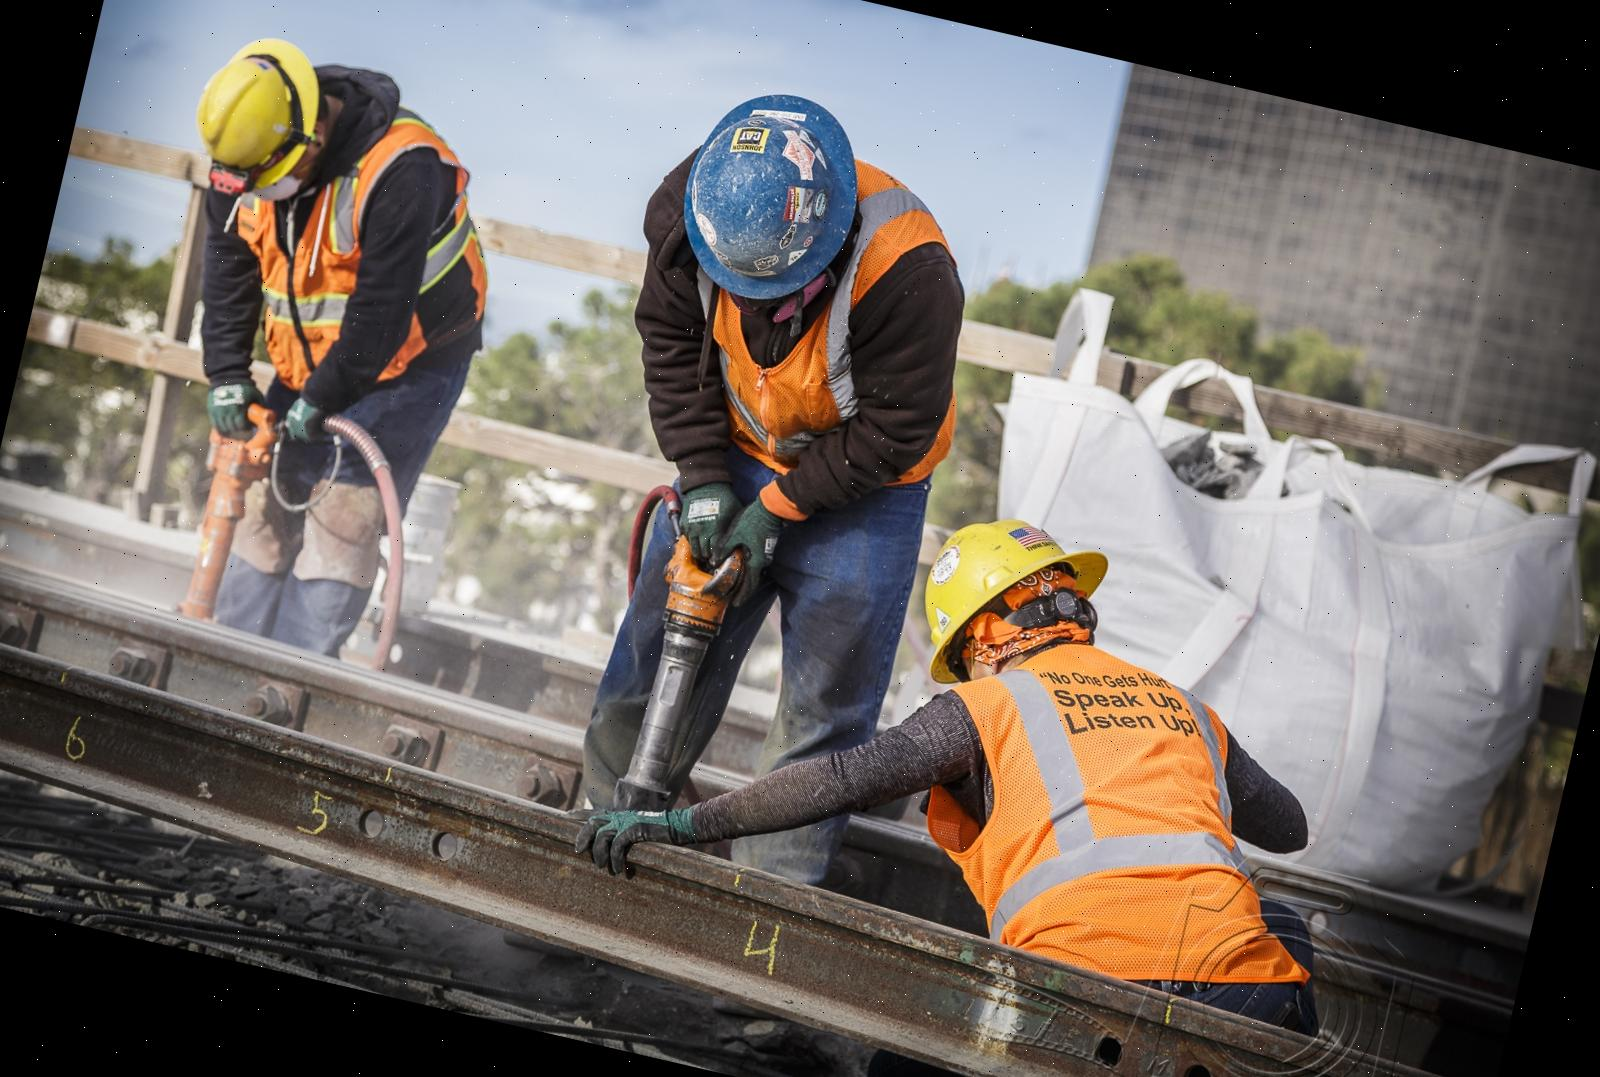helmet: (662, 76, 884, 313), (904, 500, 1130, 704), (185, 23, 335, 194), (740, 1012, 781, 1042)
wear: (894, 639, 1356, 1016), (197, 180, 494, 422), (659, 280, 969, 510)
